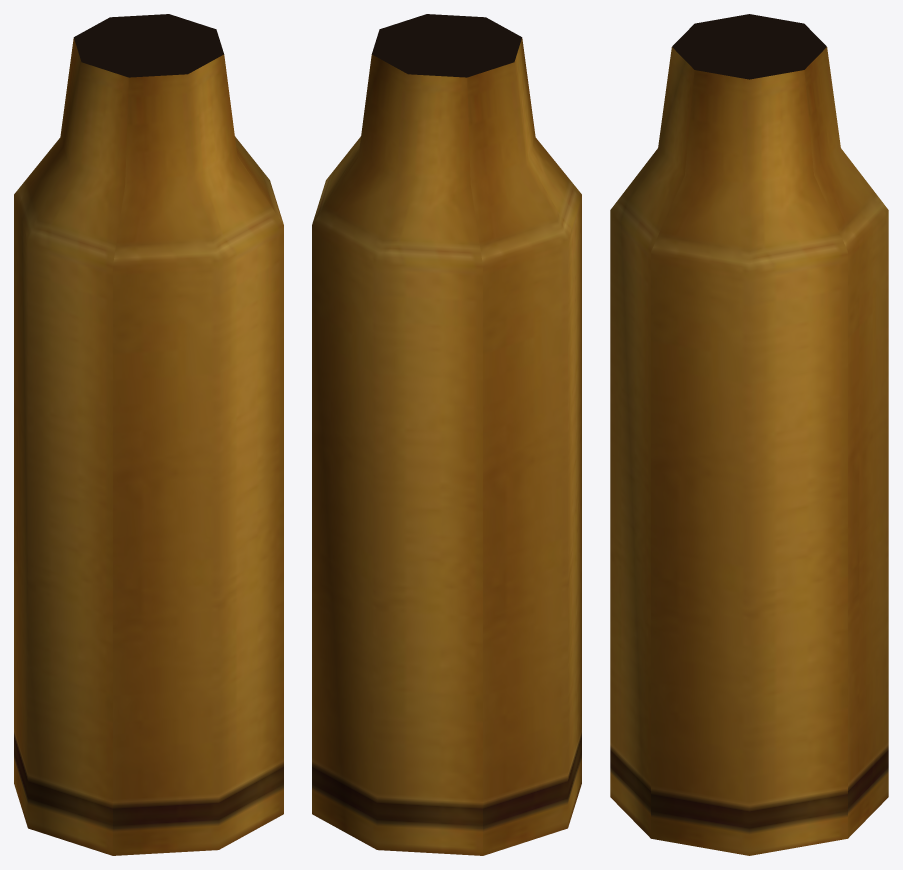
The model's file is muff.FBX.
3 renders of one model, left to right at view 1: azimuth 30°, elevation 25°; view 2: azimuth 150°, elevation 25°; view 3: azimuth 270°, elevation 25°, orthographic.
Visible parts, largest first — view 1: Cylinder01; view 2: Cylinder01; view 3: Cylinder01.
Part boxes in pixels (left/top/right/bottom): Cylinder01: left=14, top=14, right=283, bottom=855; Cylinder01: left=312, top=14, right=581, bottom=855; Cylinder01: left=610, top=14, right=888, bottom=855.
Bounding box in the file's own units: 11.03 × 11.03 × 32.79.
